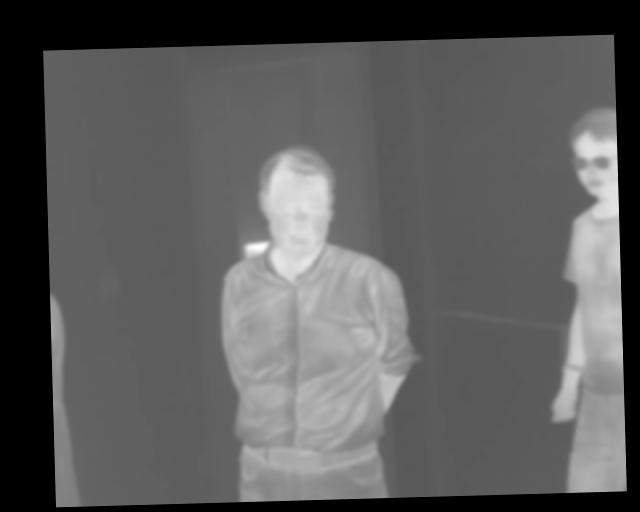face: (256, 143, 340, 263), (569, 106, 617, 198)
